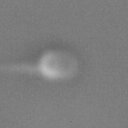normal: (1, 61, 38, 77)
